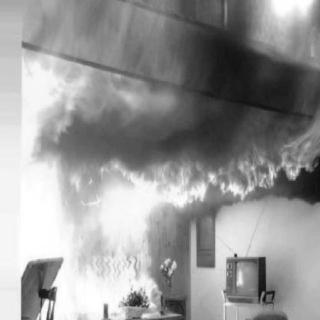Fire: (21, 41, 319, 291)
